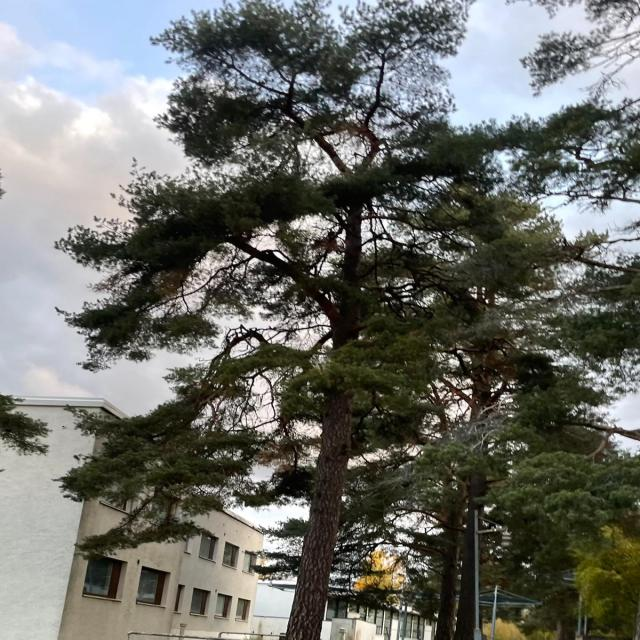pine: (38, 11, 556, 640)
